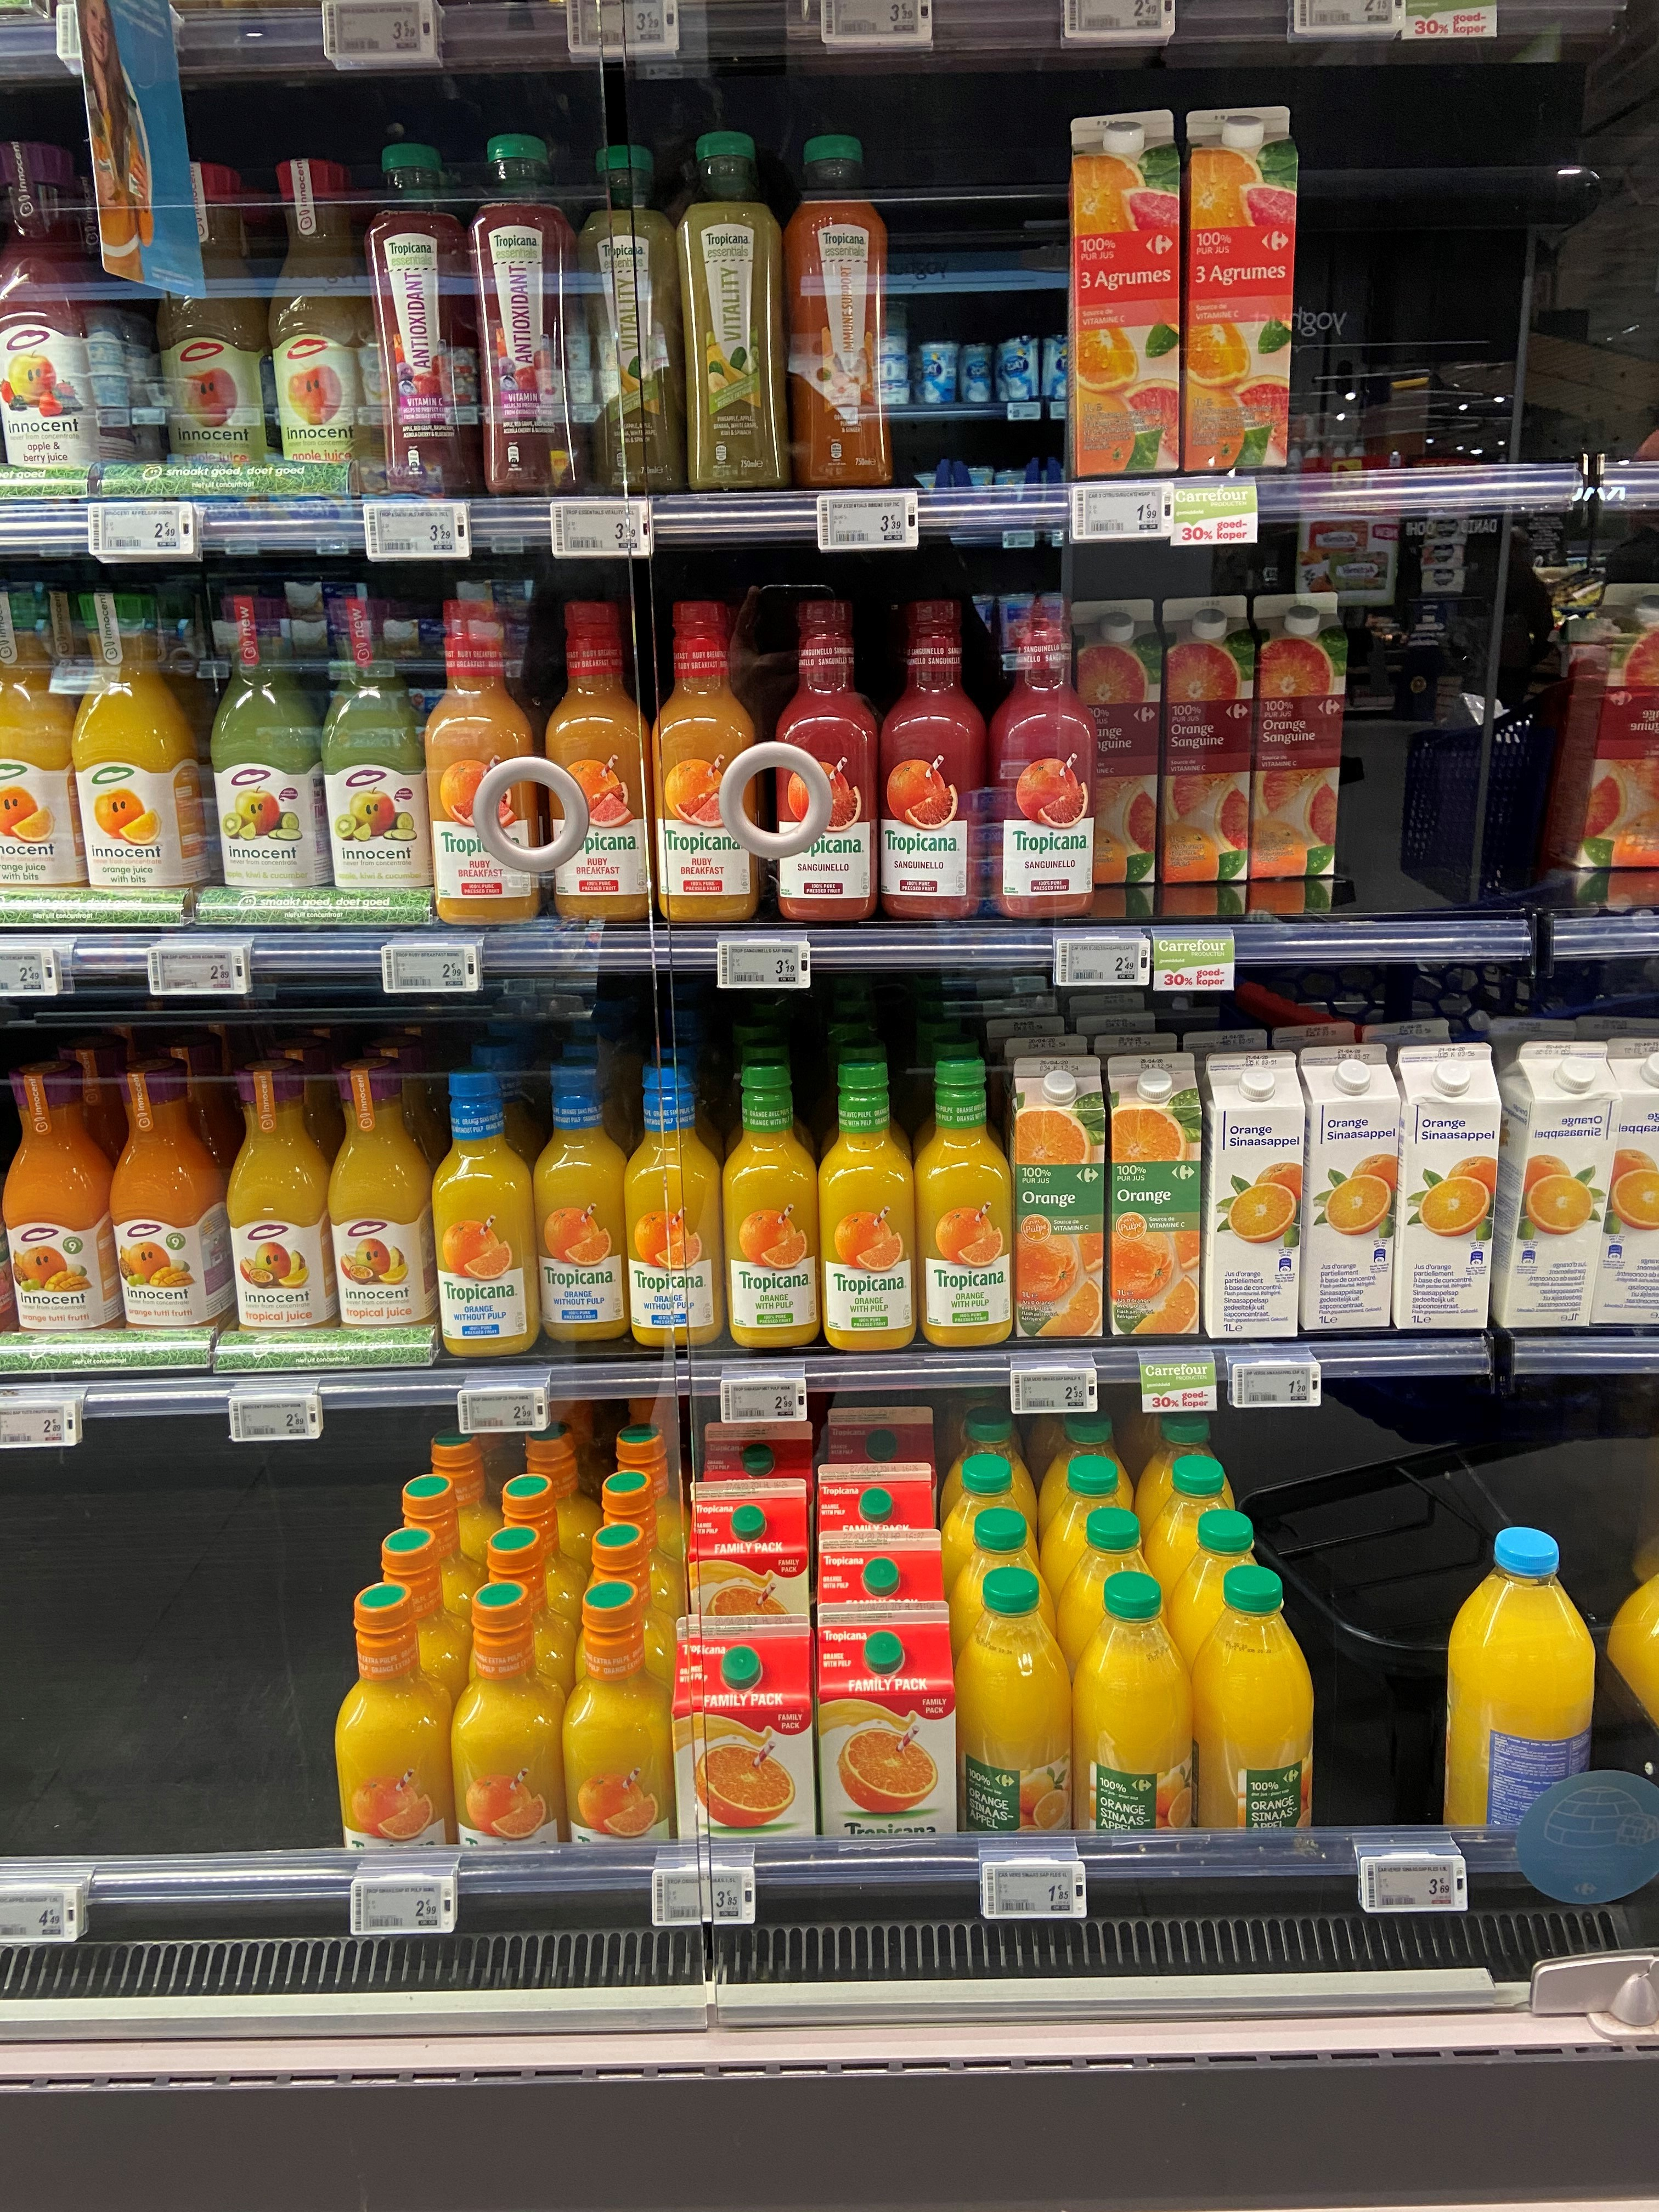Carrefour3Agrumes: (1183, 108, 1298, 477), (1066, 106, 1180, 481)
CarrefourOrangeBrik: (1105, 1052, 1202, 1336), (1011, 1055, 1107, 1341)
CarrefourOrangeFles: (1192, 1566, 1314, 1867), (1072, 1569, 1192, 1864), (958, 1566, 1072, 1869)
CarrefourOrangeSanguine: (1249, 590, 1347, 876), (1161, 594, 1249, 880), (1072, 597, 1159, 887)
CarrefourOrangeSinaasappel: (1201, 1050, 1305, 1339), (1394, 1043, 1497, 1331), (1298, 1045, 1398, 1336)
InnocentApple: (152, 162, 275, 489), (267, 157, 382, 481)
InnocentAppleBerry: (0, 139, 110, 488)
InnocentAppleKiwiCucumber: (209, 594, 335, 902), (321, 594, 439, 907)
InnocentOrangeTuttiFrutti: (106, 1054, 234, 1339), (0, 1059, 119, 1346)
InnocentOrangeWithBits: (71, 590, 220, 906), (0, 585, 80, 899)
InnocentTropicalJuice: (328, 1052, 441, 1341), (227, 1057, 340, 1345)
TropicanaAntiOxidant: (471, 134, 584, 509), (364, 143, 479, 503)
TropicanaImmuneSupport: (786, 132, 890, 495)
TropicanaOrangeExtraPulp: (448, 1580, 570, 1890), (333, 1581, 457, 1885), (563, 1580, 680, 1878)
TropicanaOrangeWithPulpBrik: (816, 1601, 962, 1898), (676, 1615, 814, 1890)
TropicanaOrangeWithPulpFles: (819, 1055, 915, 1350), (723, 1059, 819, 1350), (918, 1055, 1011, 1348)
TropicanaOrangeWithoutPulp: (430, 1064, 540, 1359), (533, 1055, 634, 1343), (627, 1059, 723, 1350)
TropicanaRubyBreakfast: (423, 599, 544, 925), (650, 601, 763, 921), (544, 601, 653, 923)
TropicanaSanguinello: (986, 590, 1096, 921), (772, 597, 884, 921), (880, 597, 990, 921)
TropicanaVitality: (678, 129, 789, 496), (577, 143, 688, 502)
__UNKNOWN: (1445, 1527, 1596, 1865)
